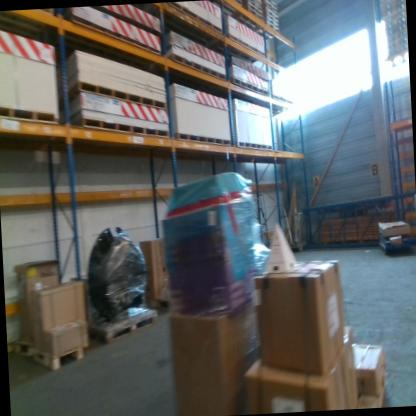pallet: (87, 304, 159, 346), (379, 239, 411, 255), (383, 0, 406, 18), (384, 6, 406, 23), (386, 26, 407, 43), (386, 34, 408, 50), (385, 19, 407, 35), (385, 13, 407, 28), (387, 42, 408, 56), (382, 0, 406, 11), (382, 0, 404, 3)
